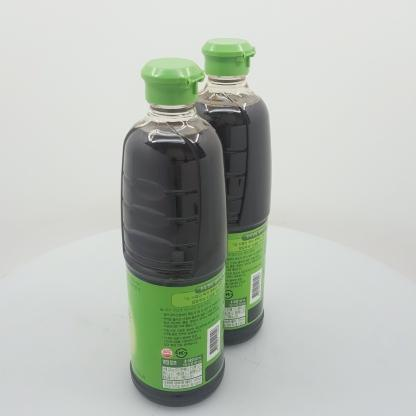-------------: (121, 58, 228, 407), (181, 38, 272, 346)
